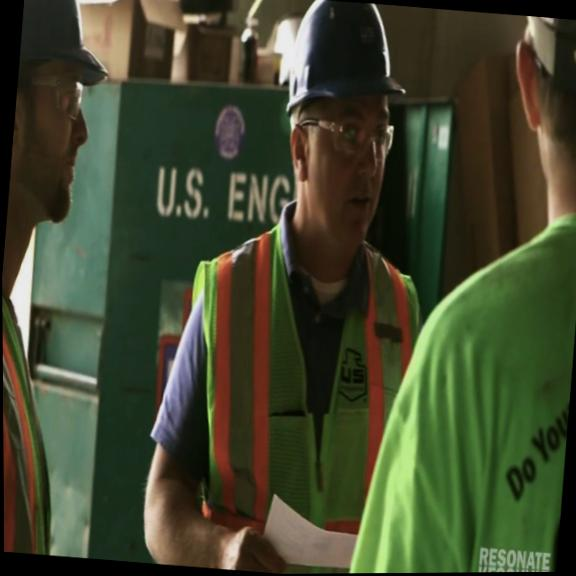safety_vest: (167, 217, 434, 575), (2, 225, 81, 556)
